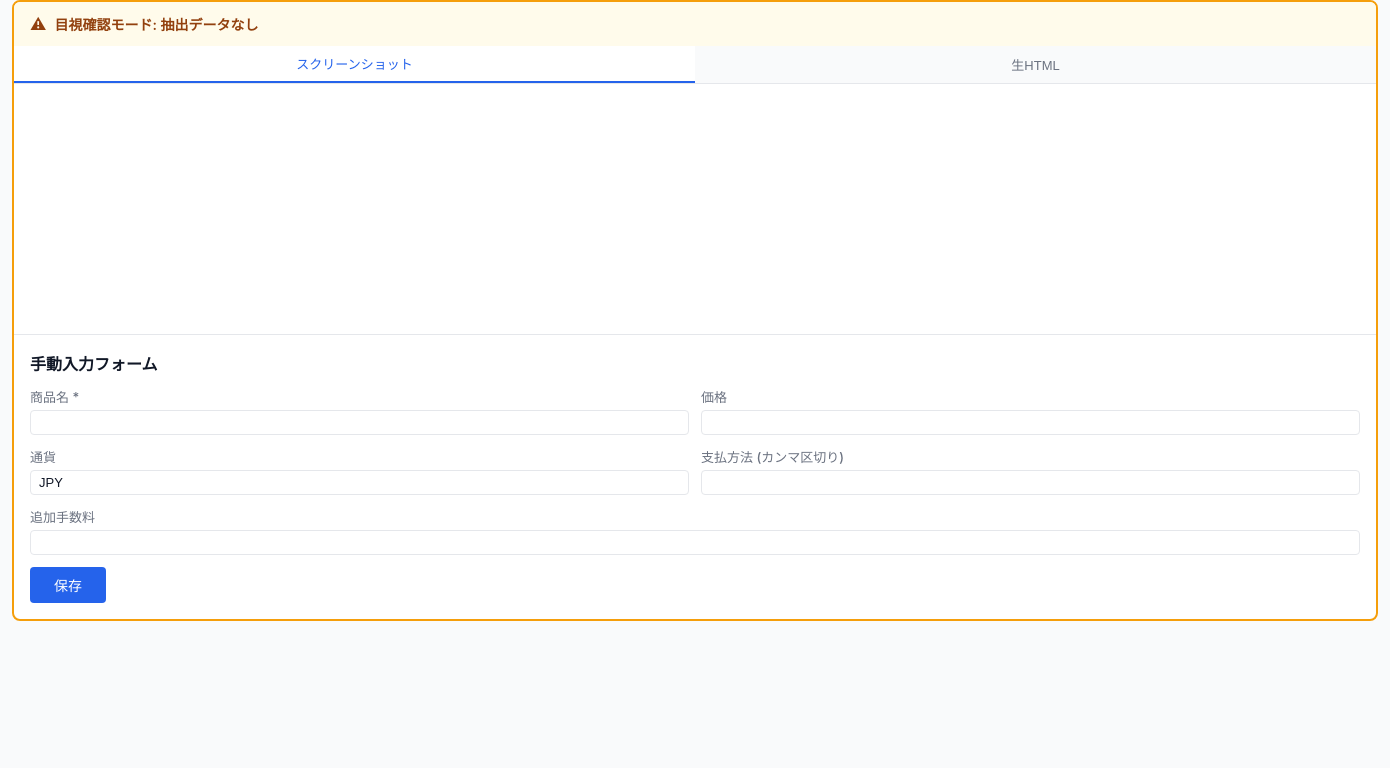
Scenario: VisualConfirmationPanel › switches to HTML tab and displays raw HTML content
Click the tab "生HTML" at (1036,64), box [695, 46, 1376, 83]
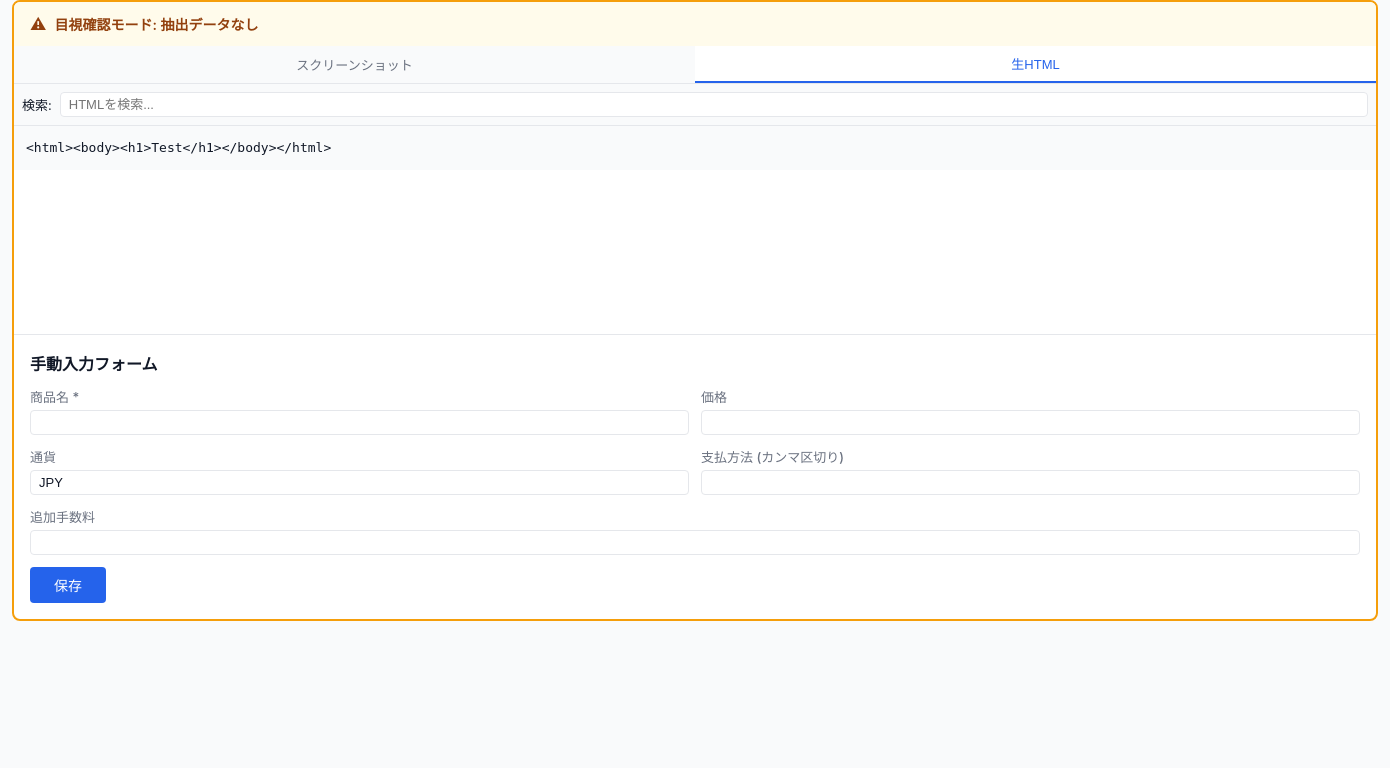
Expected: the text "<html><body><h1>Test</h1></body></html>" is shown, [14, 126, 1376, 170]
